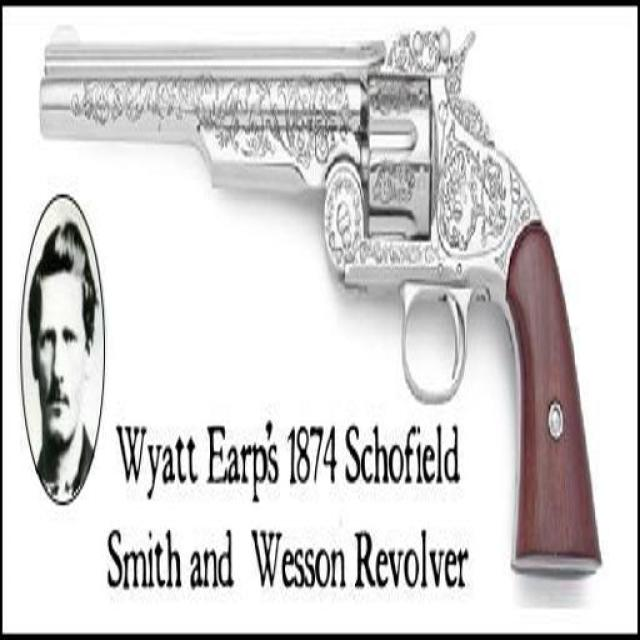pistol: (28, 18, 606, 586)
